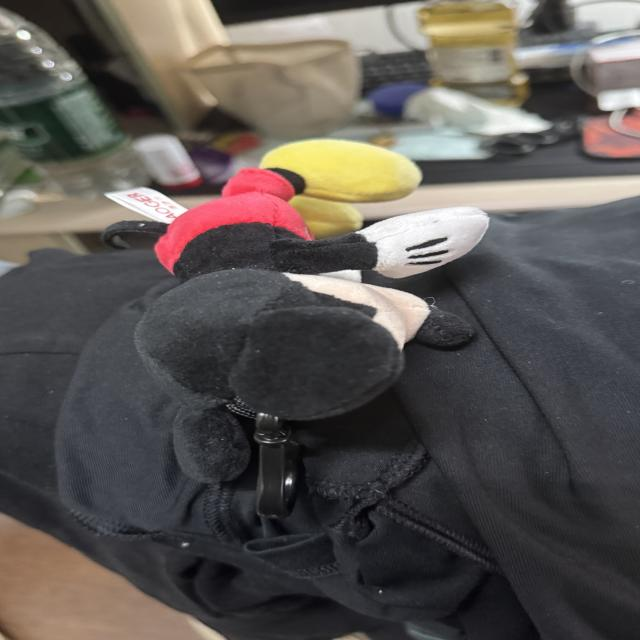mickey: (104, 140, 487, 481)
